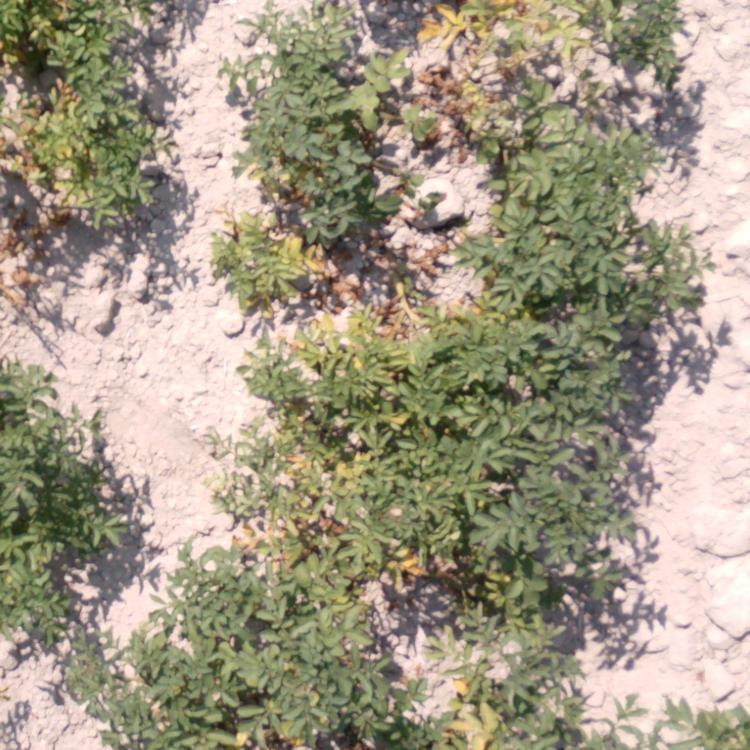healthy: (468, 145, 679, 302), (445, 421, 606, 587), (233, 6, 368, 175), (1, 360, 120, 550), (460, 306, 637, 414), (62, 638, 201, 748), (146, 541, 262, 631), (589, 691, 749, 750), (320, 642, 407, 745), (1, 555, 110, 630), (590, 1, 699, 75), (464, 590, 563, 665), (585, 87, 657, 137)
stressed: (1, 1, 157, 216), (216, 427, 441, 546), (388, 2, 570, 140), (307, 295, 444, 420), (414, 671, 582, 750), (220, 192, 354, 290), (216, 648, 306, 747), (281, 550, 372, 641), (1, 245, 53, 308)
